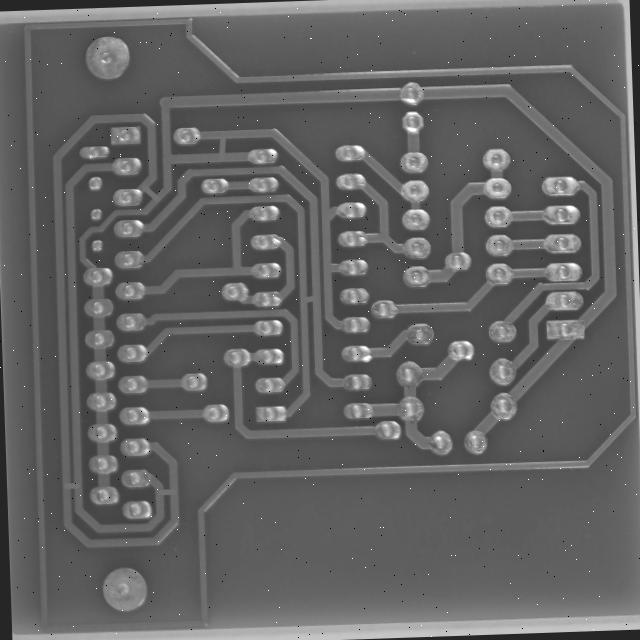short: (150, 140, 185, 186), (70, 197, 102, 235), (87, 542, 124, 567), (253, 324, 283, 350)
